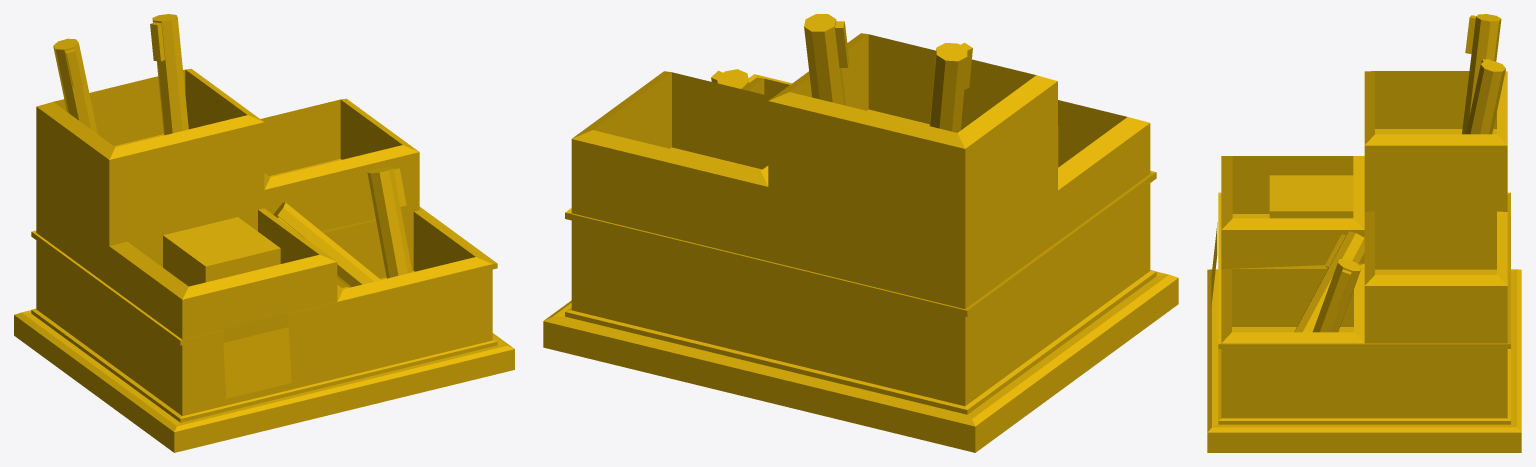
The model's file is organizer.fbx.
The picture shows the model from 3 angles, left to right: view 1: azimuth 30°, elevation 25°; view 2: azimuth 150°, elevation 25°; view 3: azimuth 270°, elevation 25°; orthographic projection. The views are drawn at different scales.
Visible parts, largest first — view 1: Cylinder.001; view 2: Cylinder.001; view 3: Cylinder.001.
Part boxes in pixels (bbox=[...]): Cylinder.001: bbox=[14, 14, 514, 452]; Cylinder.001: bbox=[543, 14, 1178, 452]; Cylinder.001: bbox=[1207, 14, 1521, 452].
Size of the model in its own units: 360 by 300 by 293.
